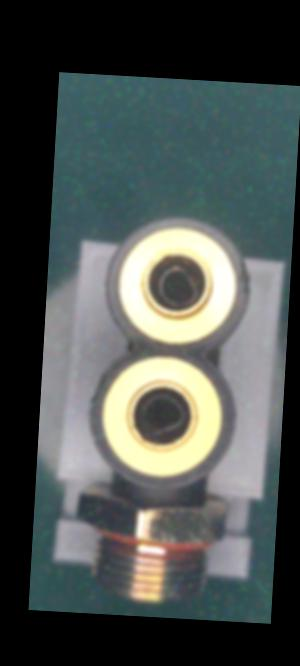bump: (234, 258, 261, 300), (85, 372, 111, 406)
off-centered: (134, 390, 189, 446), (154, 263, 206, 310)
